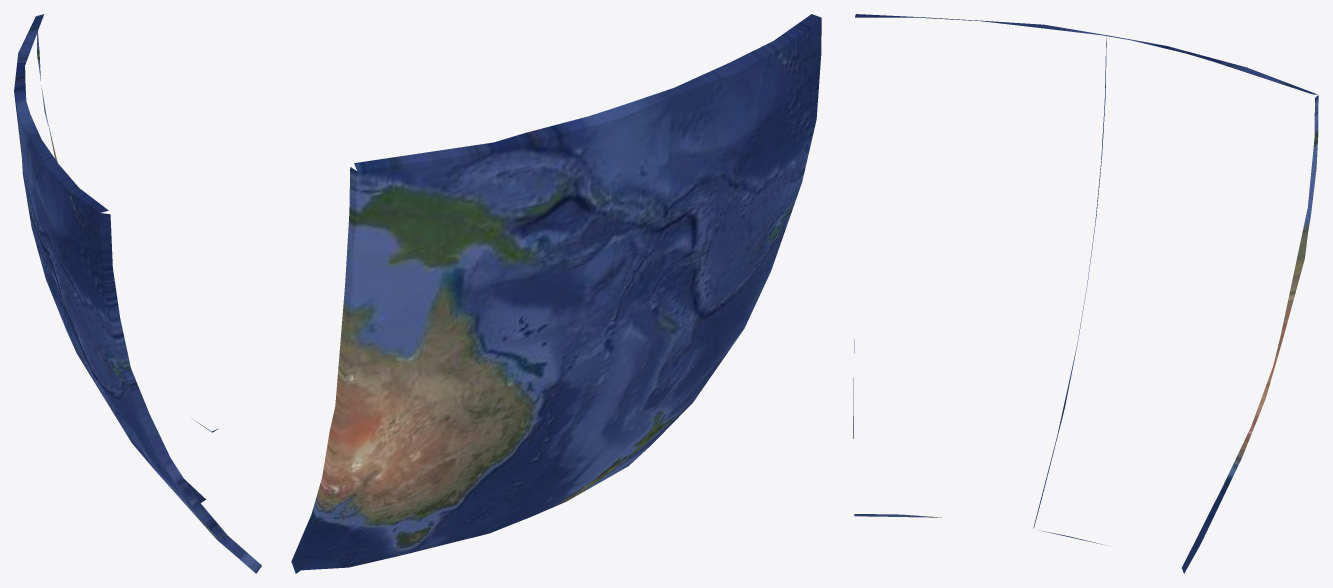
The picture shows the model from 3 angles, left to right: view 1: azimuth 30°, elevation 25°; view 2: azimuth 150°, elevation 25°; view 3: azimuth 270°, elevation 25°; orthographic projection. The views are drawn at different scales.
Size of the model in its own units: 3239340 by 4566179 by 4564218.
Materials: 1 (1 with a texture image).
